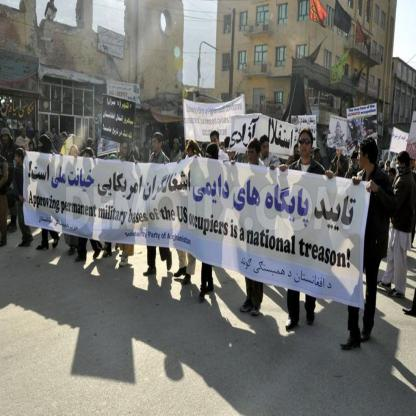face: (299, 135, 312, 157), (358, 150, 366, 170), (248, 149, 258, 164), (262, 144, 270, 158), (212, 137, 219, 151), (153, 140, 160, 152), (124, 144, 130, 157), (15, 154, 21, 165), (3, 135, 9, 145), (71, 150, 79, 157), (398, 161, 403, 172), (295, 149, 300, 159), (83, 152, 91, 158), (337, 150, 343, 158), (39, 141, 43, 152), (317, 152, 321, 161), (202, 149, 206, 157), (231, 152, 235, 160), (390, 173, 394, 181), (188, 151, 193, 157), (61, 136, 64, 145), (22, 131, 26, 137), (30, 145, 34, 151), (413, 160, 416, 167), (411, 162, 414, 169), (36, 133, 39, 139), (53, 129, 56, 134), (175, 143, 178, 148), (388, 163, 390, 169)
